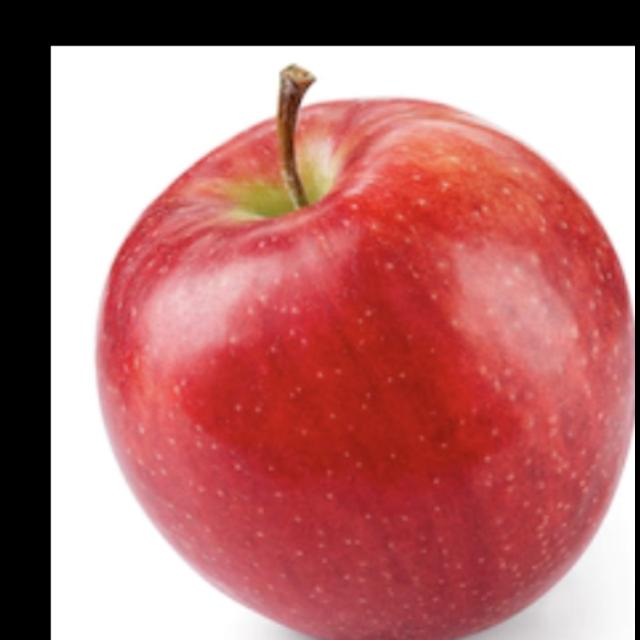Apel Segar: (94, 66, 636, 640)
